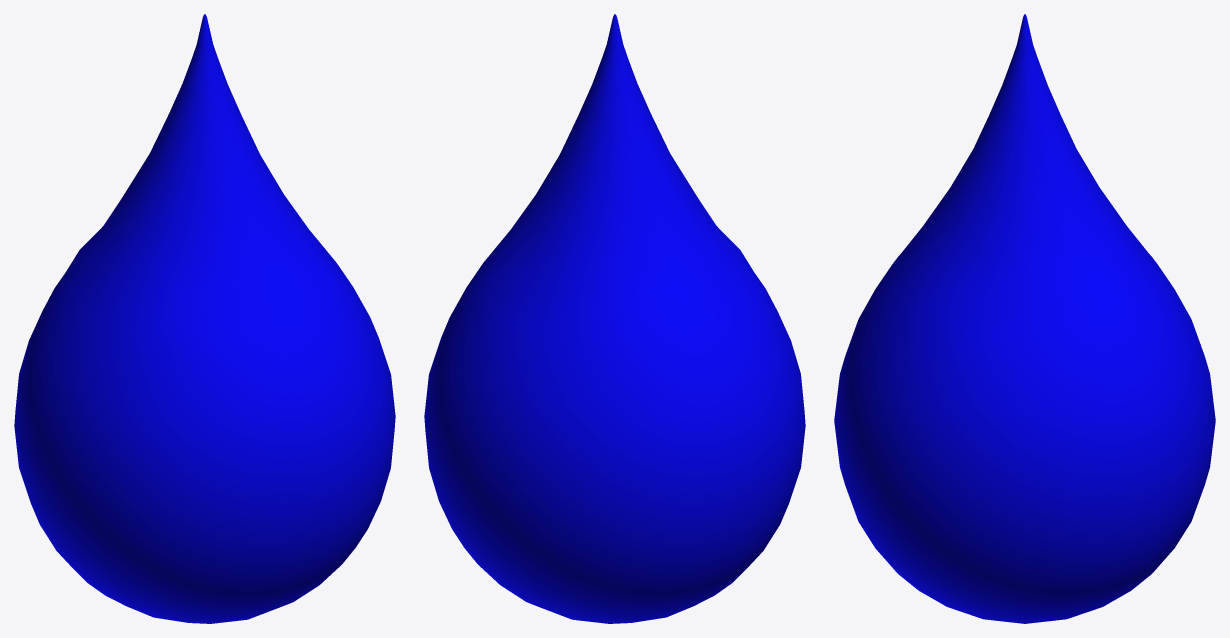
File: drop.obj
3 views of the same model, side by side, from view 1: azimuth 30°, elevation 25°; view 2: azimuth 150°, elevation 25°; view 3: azimuth 270°, elevation 25° (orthographic).
Visible parts, largest first — view 1: Drops; view 2: Drops; view 3: Drops.
Part boxes in pixels (<box>): Drops: <box>14,14,395,623</box>; Drops: <box>424,14,805,623</box>; Drops: <box>834,14,1215,623</box>.
Bounding box in the file's own units: 0.0247 × 0.0423 × 0.0247.
